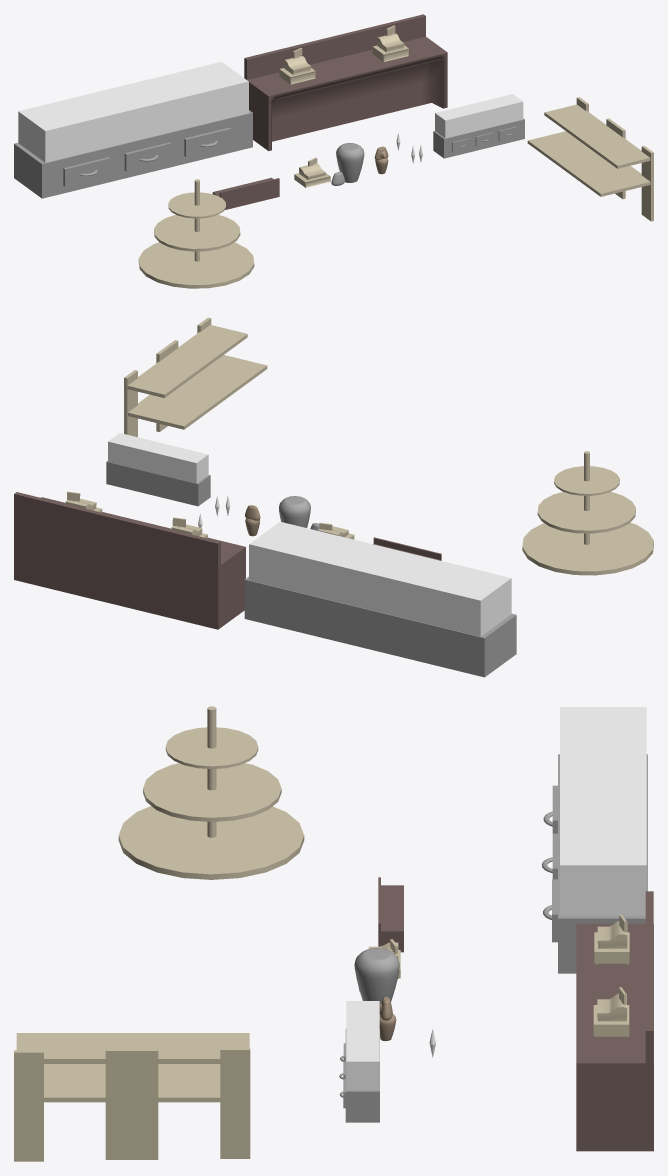
File: Giftshop models.fbx
3 renders of one model, top to bottom at view 1: azimuth 30°, elevation 25°; view 2: azimuth 150°, elevation 25°; view 3: azimuth 270°, elevation 25°, orthographic. The views are drawn at different scales.
Visible parts, largest first — view 1: pCube18, pCube27, pCylinder31, pCube33, pCube34, pCube21, pCylinder10, pCylinder19; view 2: pCube18, pCube27, pCylinder31, pCube33, pCube34, pCylinder10, pCube21; view 3: pCube33, pCube18, pCylinder31, pCube27, pCube34, pCylinder10, pCube21.
Part boxes in pixels (bbox=[...]): pCube18: bbox=[14, 61, 252, 198]; pCube27: bbox=[244, 14, 447, 151]; pCylinder31: bbox=[138, 179, 254, 288]; pCube33: bbox=[527, 97, 653, 221]; pCube34: bbox=[433, 94, 524, 158]; pCube21: bbox=[212, 177, 279, 209]; pCylinder10: bbox=[336, 143, 364, 182]; pCylinder19: bbox=[294, 157, 330, 187]; pCube18: bbox=[244, 521, 516, 677]; pCube27: bbox=[14, 491, 245, 629]; pCylinder31: bbox=[522, 451, 653, 575]; pCube33: bbox=[124, 317, 267, 437]; pCube34: bbox=[106, 433, 210, 506]; pCylinder10: bbox=[279, 496, 310, 527]; pCube21: bbox=[373, 537, 441, 560]; pCube33: bbox=[14, 1033, 250, 1161]; pCube18: bbox=[542, 707, 647, 973]; pCylinder31: bbox=[118, 706, 304, 879]; pCube27: bbox=[576, 891, 653, 1151]; pCube34: bbox=[339, 1001, 379, 1122]; pCylinder10: bbox=[354, 948, 399, 1002]; pCube21: bbox=[378, 877, 403, 952].
Size of the model in its own units: 23.13 by 4.93 by 18.
